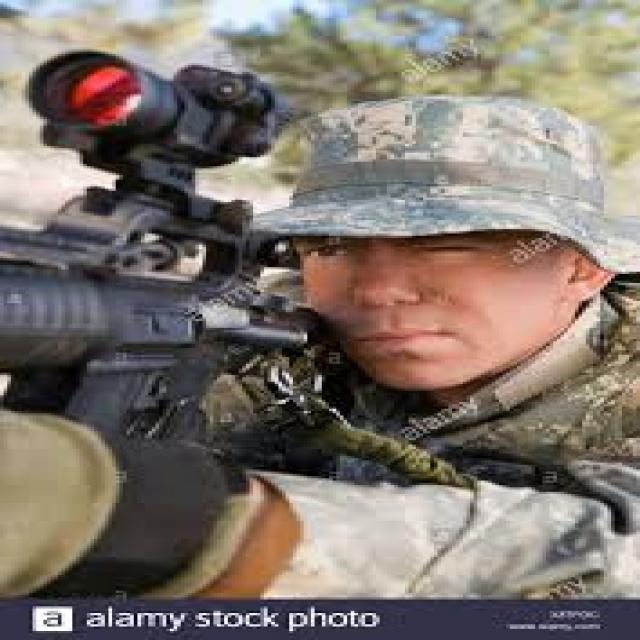soldier: (6, 46, 640, 600)
